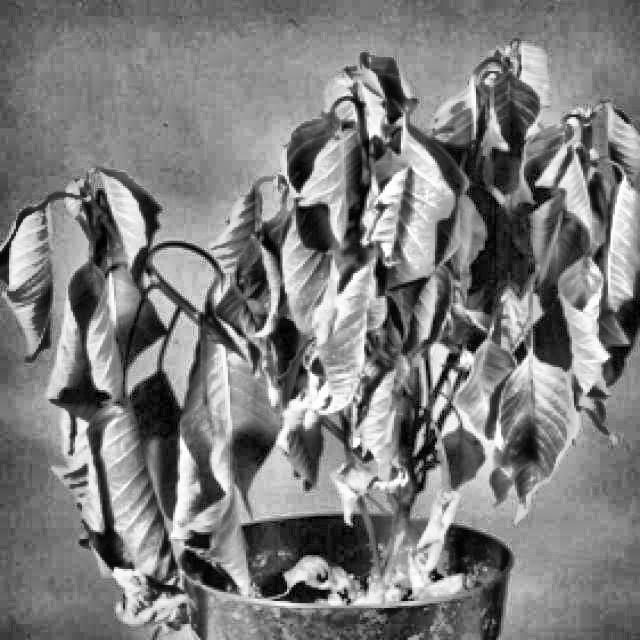plants: (277, 39, 639, 559), (0, 138, 270, 606)
